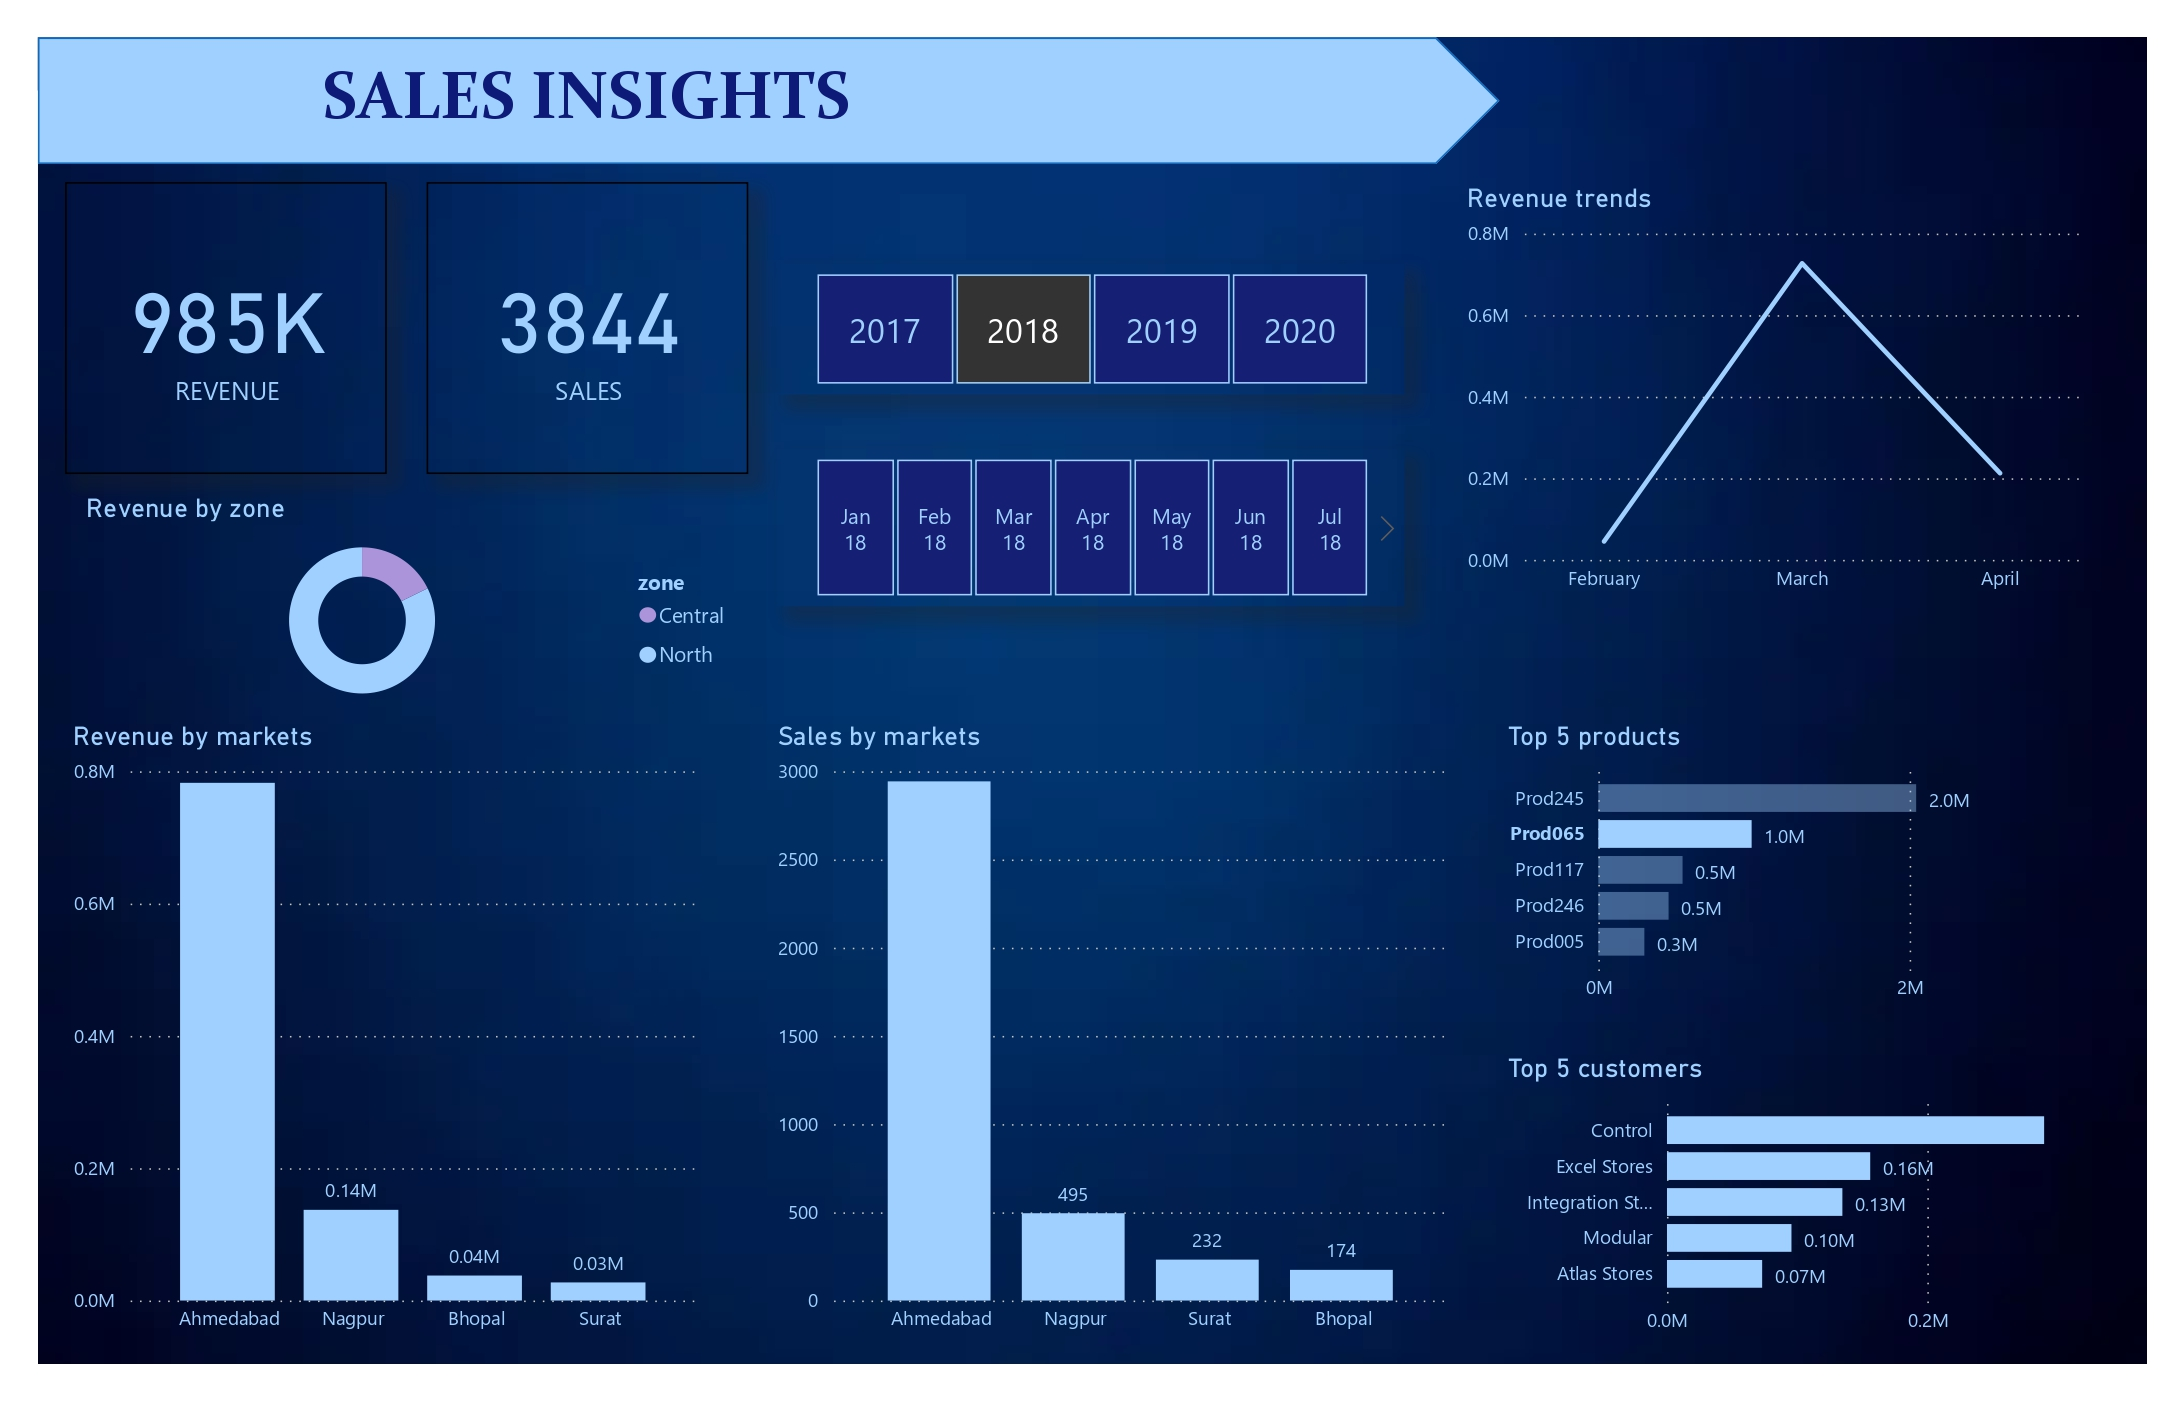

What the dashboard file says about the page in this screenshot:
{"tool":"powerbi","page":{"name":"Key Insights","canvas":[1350,850],"ordinal":0},"visuals":[{"type":"group","id":"g1","title":"Group 1","box":[0,0,936.4,81],"z":0},{"type":"shape","box":[0,0,936.4,81],"z":0,"group":"g1"},{"type":"textbox","box":[28.9,5.8,644,68],"z":1000,"group":"g1"},{"type":"card","fields":{"Values":["NEW MEASURE.REVENUE"]},"box":[17.4,92.6,205.5,186.7],"z":1000},{"type":"card","fields":{"Values":["NEW MEASURE.SALES"]},"box":[248.9,92.6,205.5,186.7],"z":2000},{"type":"slicer","fields":{"Values":["date.year"]},"box":[473.3,144.7,402.3,83.9],"z":3000},{"type":"columnChart","title":"Revenue by market  name","fields":{"Y":["NEW MEASURE.REVENUE"],"Category":["markets.markets_name"]},"box":[17.4,437.1,411,402.3],"z":4000},{"type":"columnChart","title":"Sales by markets name","fields":{"Category":["markets.markets_name"],"Y":["NEW MEASURE.SALES"]},"box":[468.9,437.1,441.4,402.3],"z":5000},{"type":"barChart","title":"Top 5 products","fields":{"Category":["products.product_code"],"Y":["NEW MEASURE.REVENUE"]},"box":[936.4,437.1,376.3,189.6],"z":6000},{"type":"barChart","title":"Top 5 customers","fields":{"Category":["customers.custmer_name"],"Y":["NEW MEASURE.REVENUE"]},"box":[936.4,649.8,376.3,189.6],"z":7000},{"type":"slicer","fields":{"Values":["date.cy_date"]},"box":[473.3,263.4,402.3,101.3],"z":8000},{"type":"donutChart","title":"Revenue by zone","fields":{"Y":["NEW MEASURE.REVENUE"],"Series":["markets.zone"]},"box":[26.1,290.9,428.4,146.2],"z":9000},{"type":"lineChart","title":"Revenue trends","fields":{"Y":["NEW MEASURE.REVENUE"],"Category":["date.cy_date.Variation.Date Hierarchy.Month"]},"box":[910.3,92.6,402.3,272.1],"z":10000}]}

Visuals, with their boxes on the page's 1350x850 design canvas (x1, y1, x2, y2). These are canvas units, not pixel positions in the 2184x1402 screenshot, which may show the page scaled, cropped or inside an application window:
"Group 1" group: x1=0, y1=0, x2=936, y2=81
shape: x1=0, y1=0, x2=936, y2=81
textbox: x1=29, y1=6, x2=673, y2=74
card - NEW MEASURE.REVENUE: x1=17, y1=93, x2=223, y2=279
card - NEW MEASURE.SALES: x1=249, y1=93, x2=454, y2=279
slicer - date.year: x1=473, y1=145, x2=876, y2=229
"Revenue by market  name" columnChart: x1=17, y1=437, x2=428, y2=839
"Sales by markets name" columnChart: x1=469, y1=437, x2=910, y2=839
"Top 5 products" barChart: x1=936, y1=437, x2=1313, y2=627
"Top 5 customers" barChart: x1=936, y1=650, x2=1313, y2=839
slicer - date.cy_date: x1=473, y1=263, x2=876, y2=365
"Revenue by zone" donutChart: x1=26, y1=291, x2=454, y2=437
"Revenue trends" lineChart: x1=910, y1=93, x2=1313, y2=365
